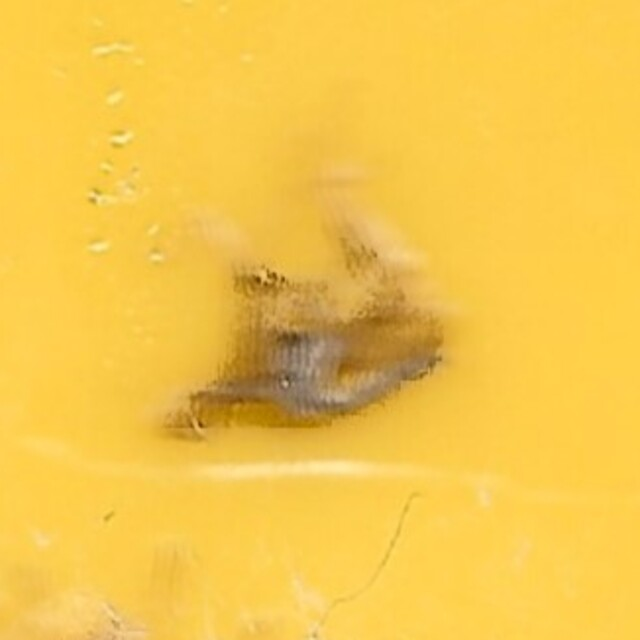Nematocera: (196, 216, 444, 424)
